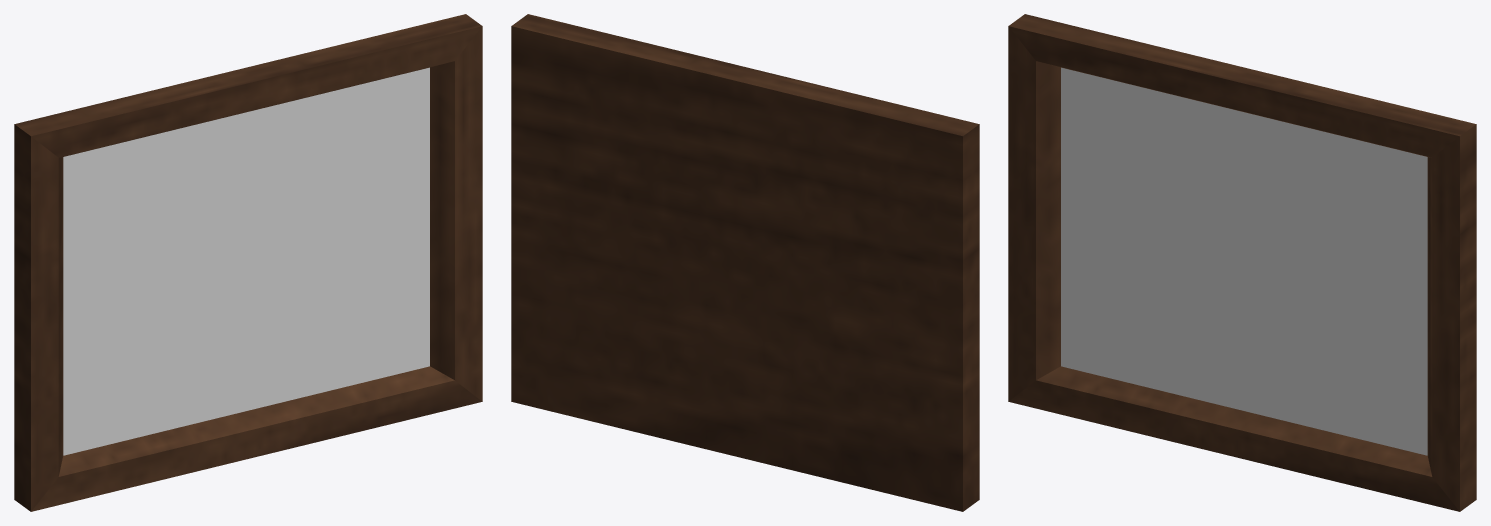
Rendered from Tablero.fbx.
3 renders of one model, left to right at view 1: azimuth 30°, elevation 25°; view 2: azimuth 150°, elevation 25°; view 3: azimuth 330°, elevation 25°, orthographic.
Parts seen in each view (by area): view 1: Cube; view 2: Cube; view 3: Cube.
Boxes of the visible parts, x1=… form: Cube: x1=14, y1=14, x2=482, y2=511; Cube: x1=511, y1=14, x2=979, y2=511; Cube: x1=1008, y1=14, x2=1476, y2=511.
Size of the model in its own units: 84.3 by 67.02 by 5.36.
